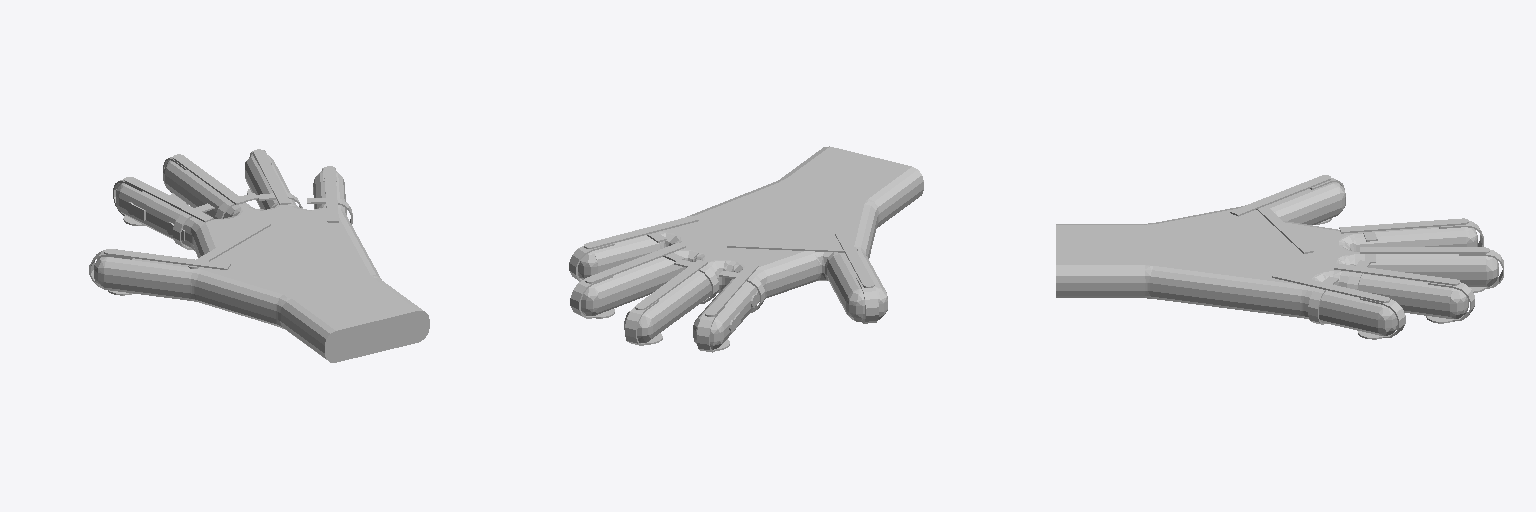
Rendered from rekawica.obj.
The picture shows the model from 3 angles: view 1: azimuth 30°, elevation 25°; view 2: azimuth 150°, elevation 25°; view 3: azimuth 270°, elevation 25°; orthographic projection.
Parts seen in each view (by area): view 1: Bryła2, Bryła1:12, Bryła1:13, Bryła1:9, Bryła1:10, Bryła1:14, Bryła1:11; view 2: Bryła2, Bryła1:11, Bryła1:10, Bryła1:14, Bryła1:9, Bryła1:13, Bryła1:12, Bryła1, Bryła1:2, Bryła1:1; view 3: Bryła2, Bryła1:9, Bryła1:13, Bryła1:10, Bryła1:11, Bryła1:12, Bryła1:14.
Part boxes in pixels (x1,y1,x2,y2): Bryła2: (94, 154, 429, 362); Bryła1:12: (104, 249, 230, 269); Bryła1:13: (124, 177, 213, 222); Bryła1:9: (173, 154, 245, 204); Bryła1:10: (253, 149, 290, 204); Bryła1:14: (188, 221, 270, 268); Bryła1:11: (324, 166, 338, 222); Bryła2: (578, 146, 923, 349); Bryła1:11: (584, 216, 698, 248); Bryła1:10: (585, 242, 685, 283); Bryła1:14: (727, 241, 857, 252); Bryła1:9: (635, 260, 707, 309); Bryła1:13: (705, 263, 758, 316); Bryła1:12: (835, 233, 874, 287); Bryła1: (625, 300, 662, 345); Bryła1:2: (697, 306, 729, 352); Bryła1:1: (570, 276, 614, 318); Bryła2: (1056, 182, 1498, 335); Bryła1:9: (1360, 247, 1489, 253); Bryła1:13: (1339, 218, 1468, 233); Bryła1:10: (1334, 263, 1459, 285); Bryła1:11: (1272, 272, 1390, 302); Bryła1:12: (1230, 175, 1330, 216); Bryła1:14: (1256, 206, 1313, 253).
Size of the model in its own units: 183 by 23.02 by 255.